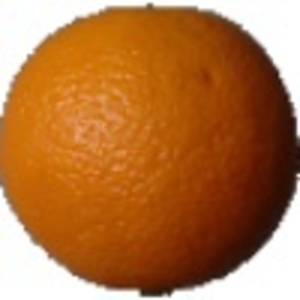laranja: (4, 2, 296, 294)
